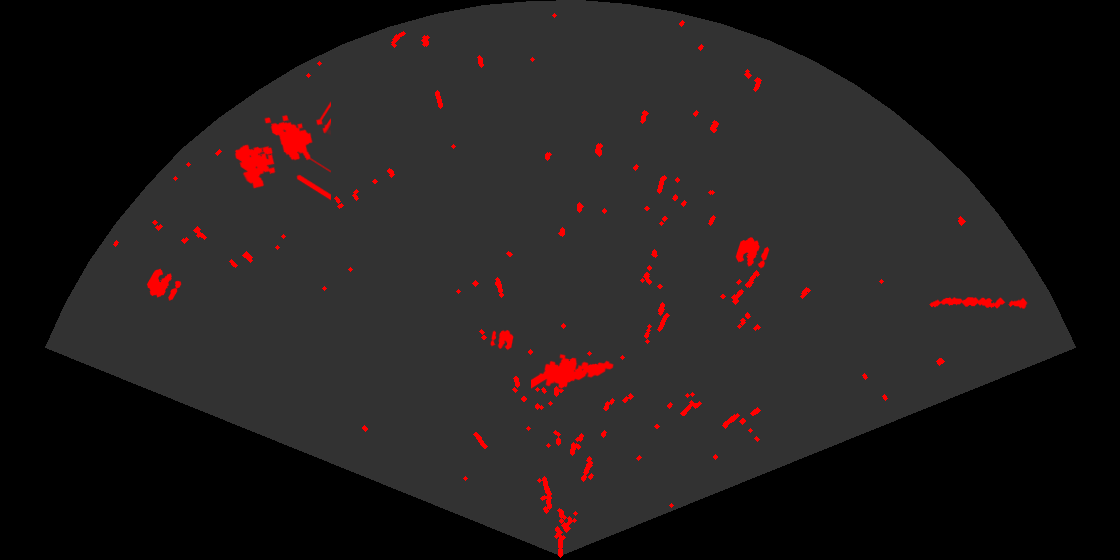ball: (145, 267, 183, 302), (734, 236, 771, 270), (488, 328, 515, 352)
cage: (233, 100, 331, 202)
chain: (928, 295, 1029, 310)
frogman: (531, 352, 615, 391)
